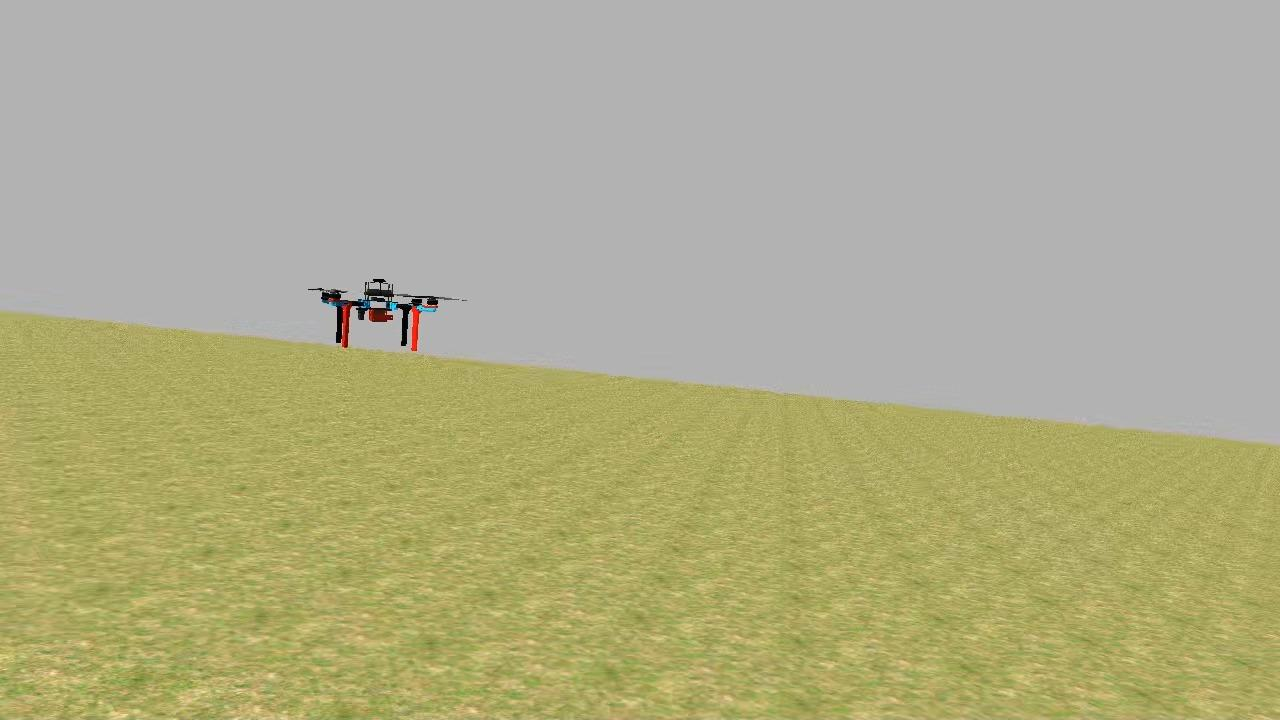UAV: (310, 274, 446, 356)
